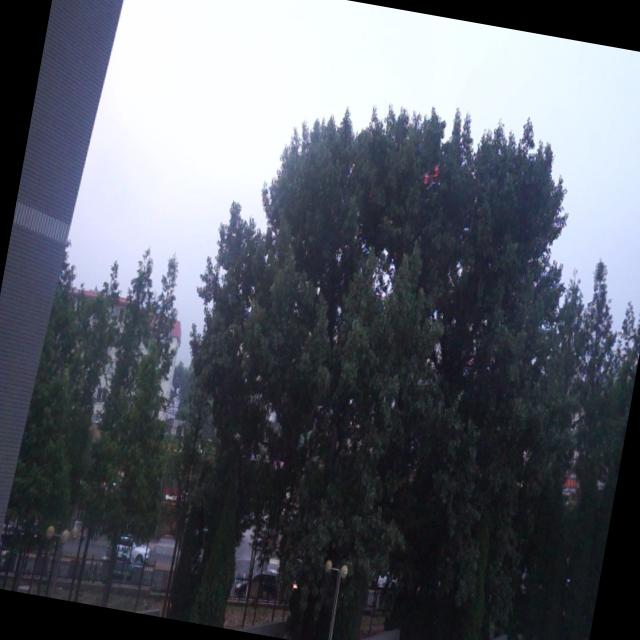drone: (417, 157, 444, 199)
